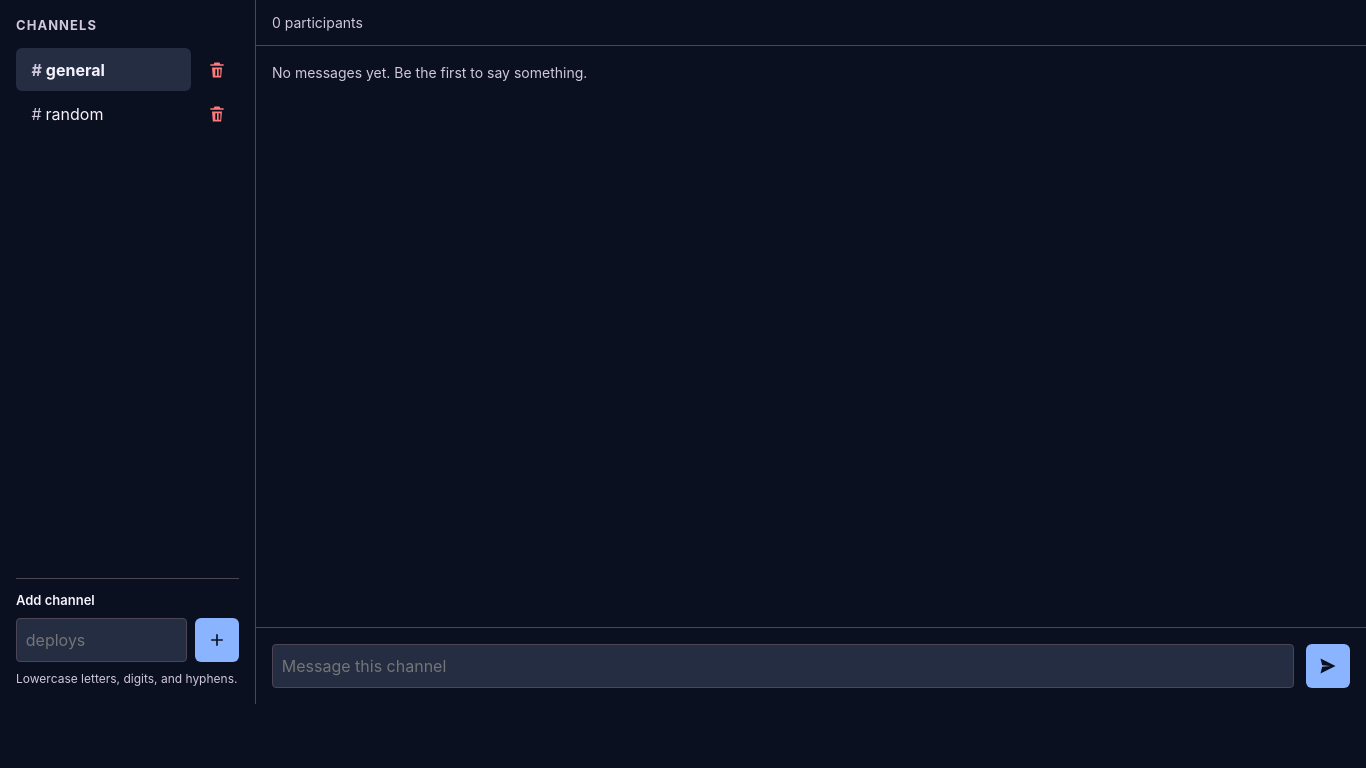
ChatWorkspace › removing a channel › reports a removal the API refused
Expected: the button "#general" is shown, [16, 48, 191, 91]
Click the button named "Remove channel: general" at [217, 70], box [195, 48, 239, 92]
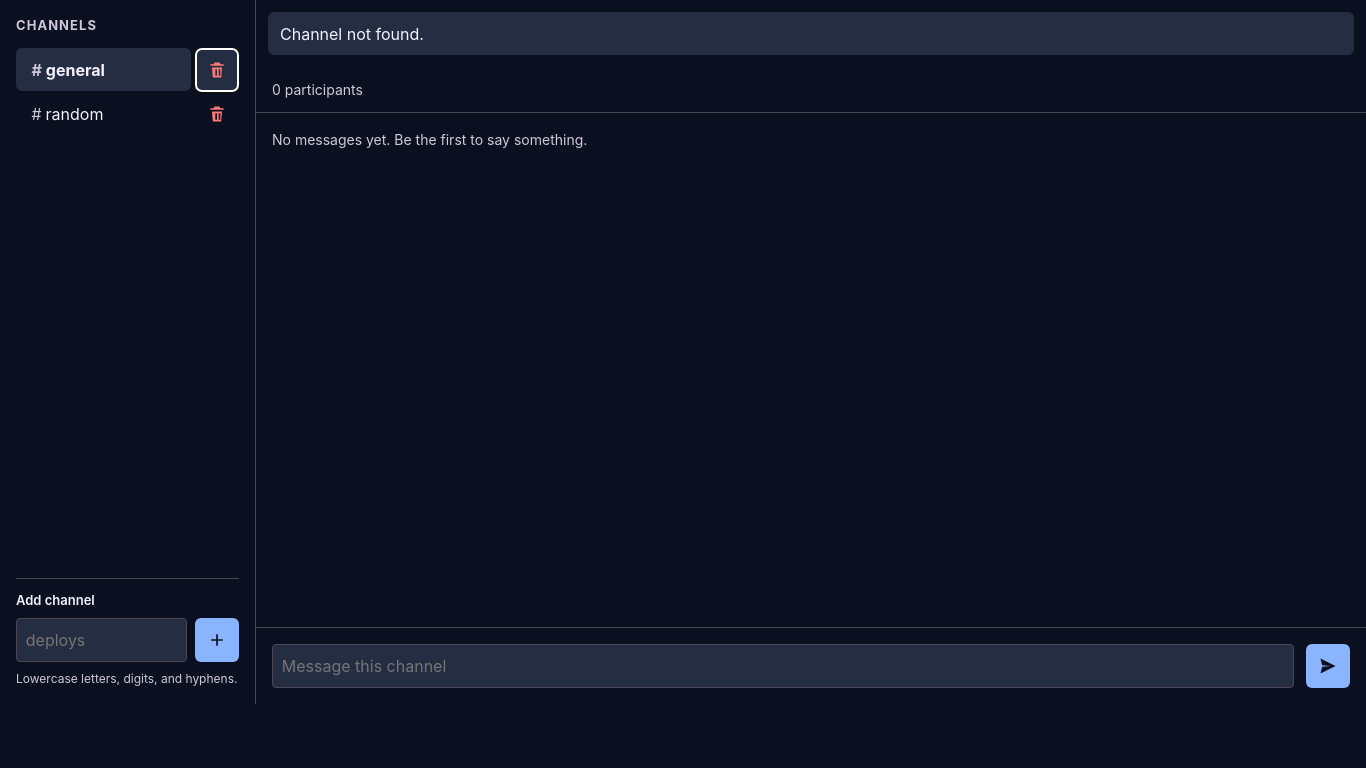
Result: the message "Channel not found." is shown at [268, 12, 1354, 55]
